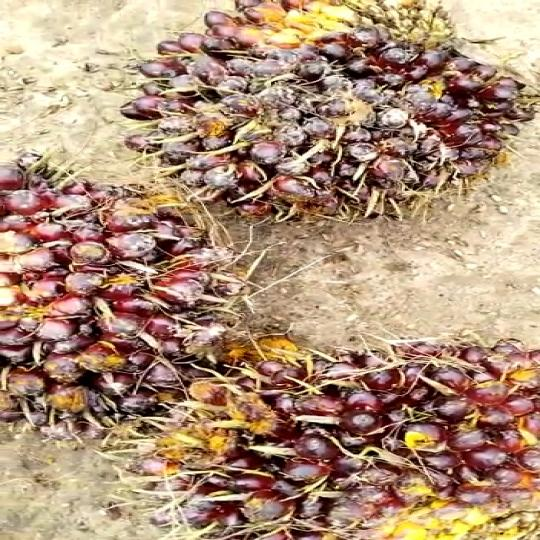kurang masak: (114, 0, 540, 240), (125, 330, 540, 540), (0, 144, 240, 446)
